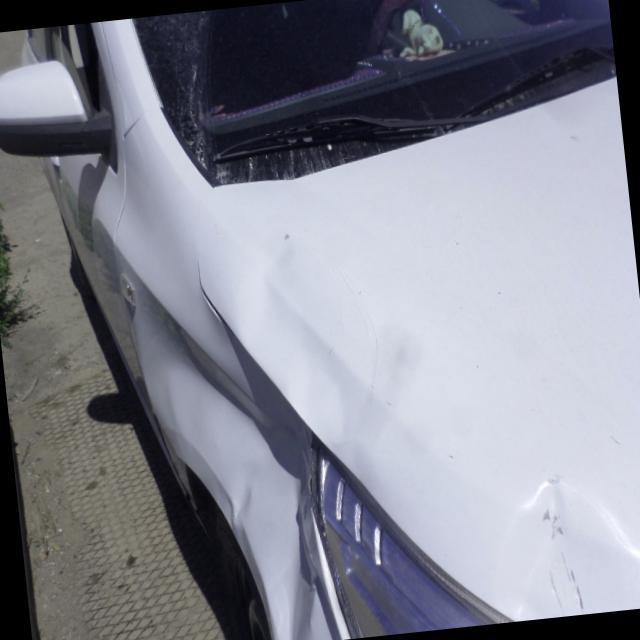Cabossage: (128, 231, 350, 640)
Dechirure: (190, 258, 232, 332)
Rayure: (516, 467, 601, 620)
